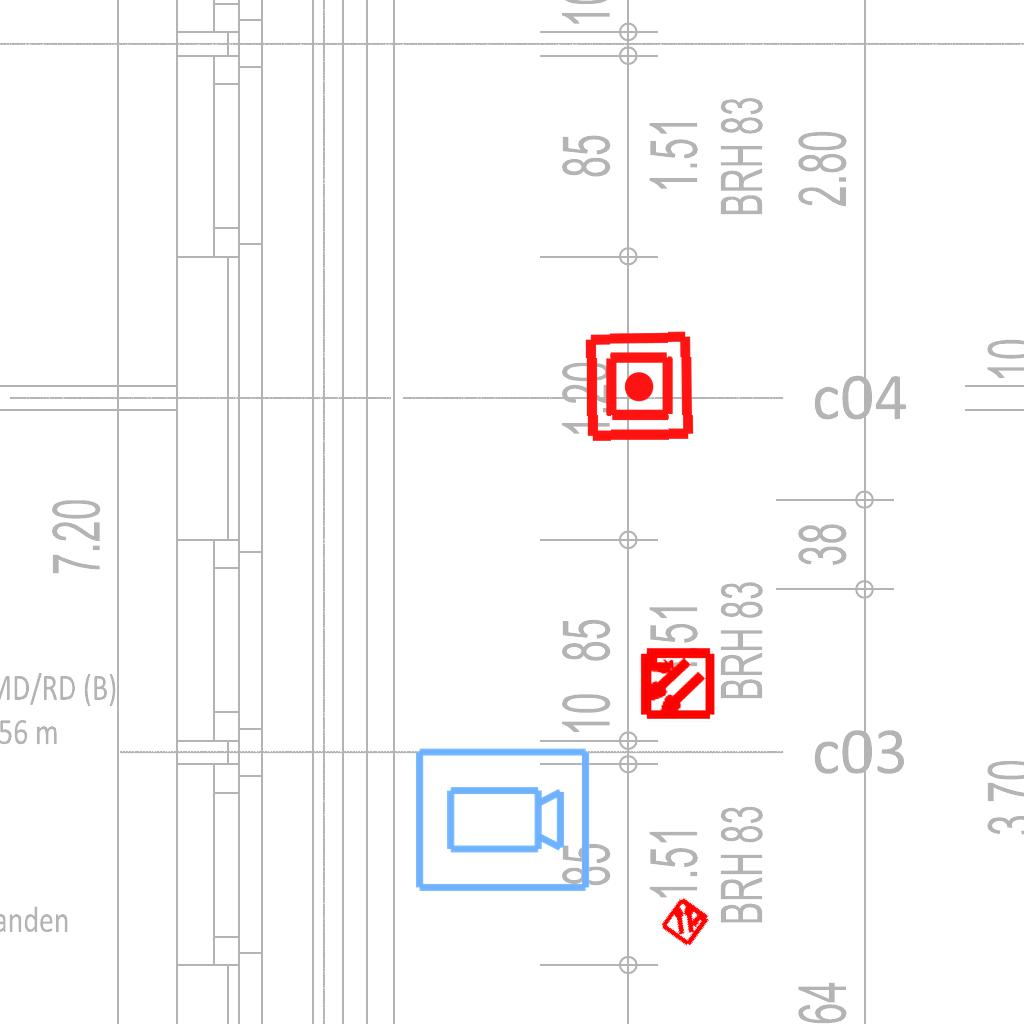KFO_Kamera_mit_Festobjektiv: (411, 744, 593, 898)
NAM-Nichtautomatischer_Melder: (582, 329, 697, 444)
OT_Multisensormelder_(Kombination_RMO_WMD): (619, 627, 732, 740), (646, 881, 726, 961)
